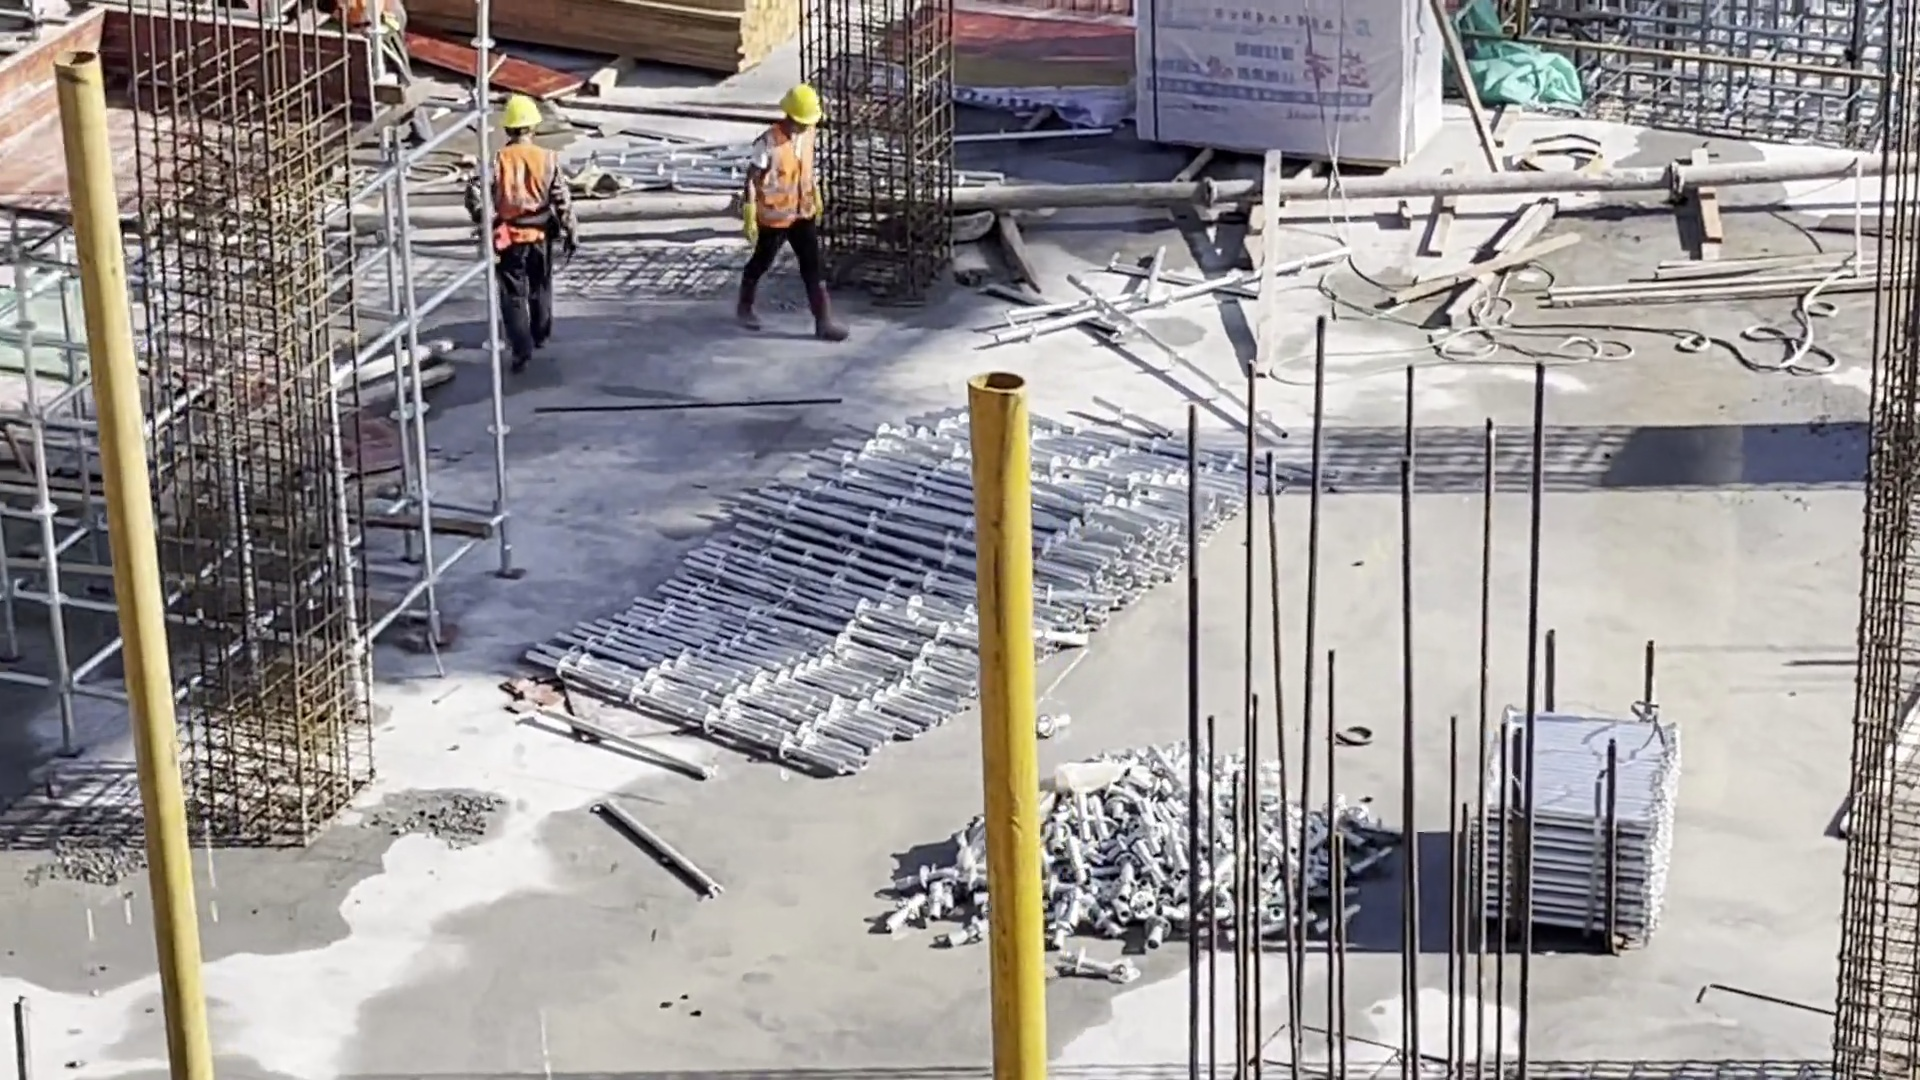helmet: (775, 87, 829, 133), (498, 94, 544, 128)
person: (737, 81, 841, 358), (469, 100, 564, 376), (329, 1, 423, 72)
scaffold: (495, 411, 1259, 777), (878, 740, 1387, 981), (1469, 705, 1680, 960)
vest: (490, 145, 564, 260), (755, 132, 819, 246)
wood: (437, 1, 843, 92)
